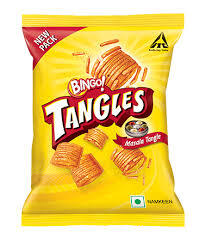VEG: (129, 194, 146, 209)
